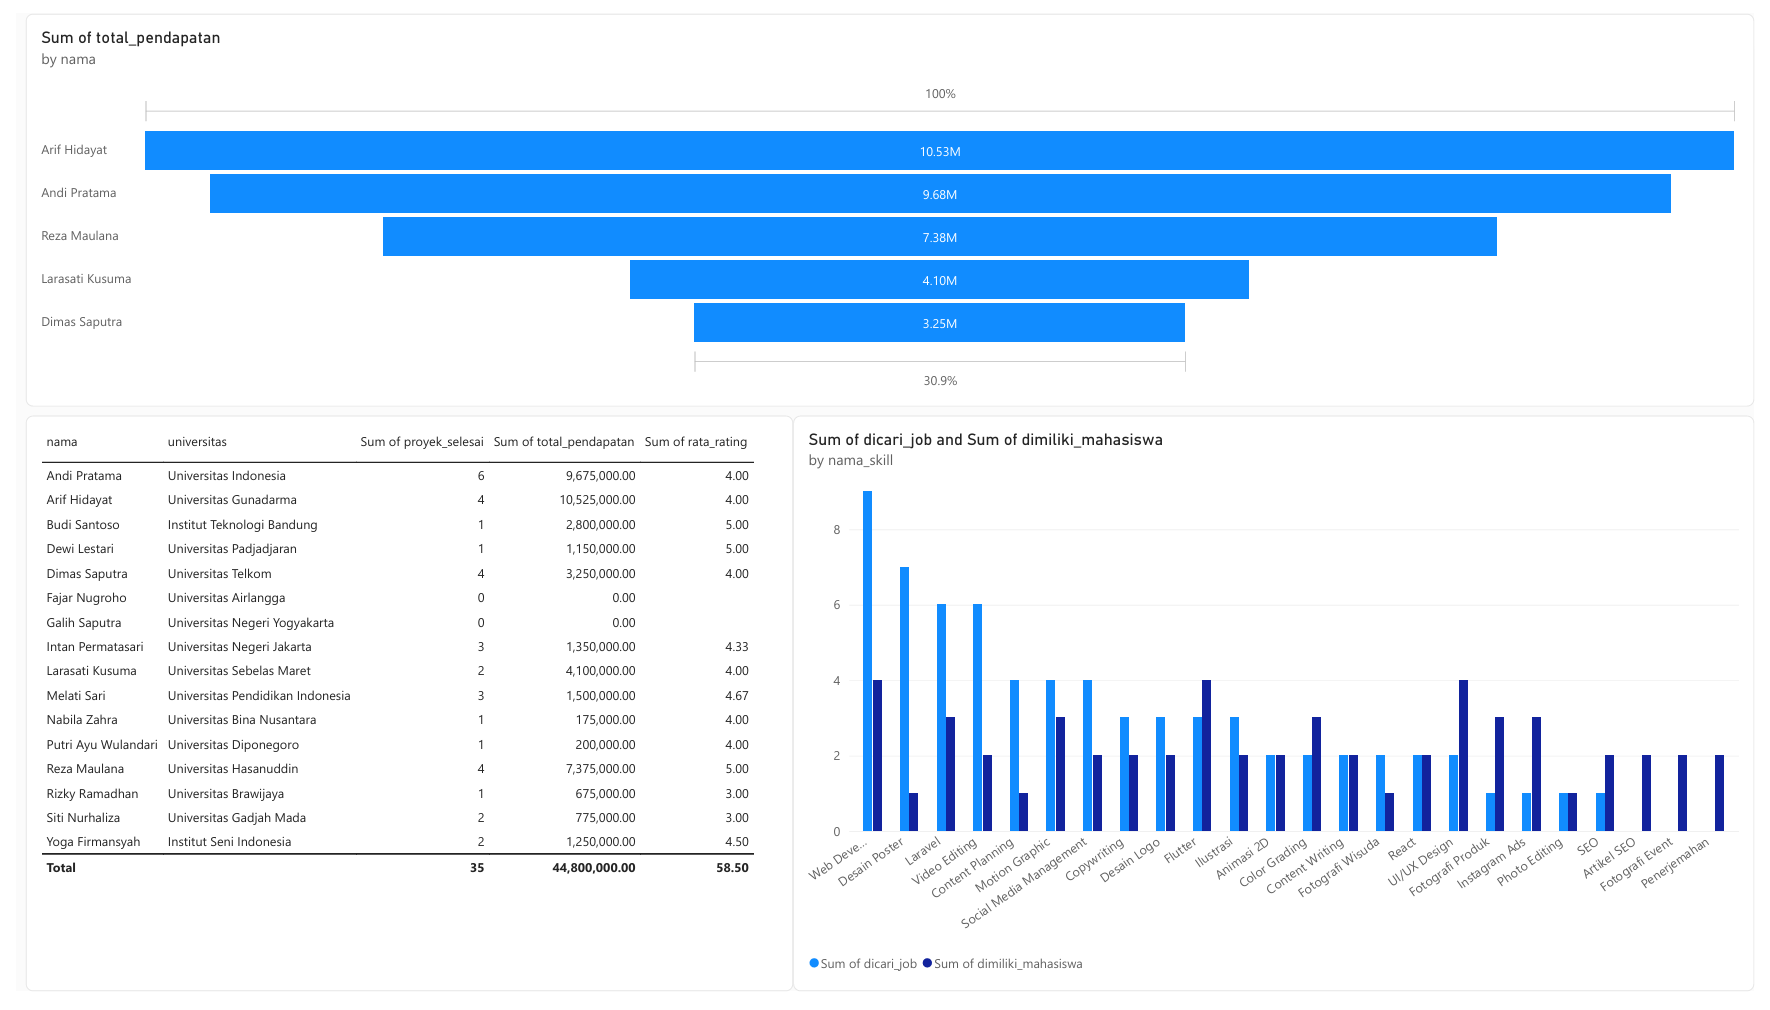

The dashboard page shown, as its layout file describes it:
{"tool":"powerbi","page":{"name":"Page 2","canvas":[1920,1080],"ordinal":1},"visuals":[{"type":"funnel","fields":{"Category":["skillconnect v_top_freelancer.nama"],"Y":["Sum(skillconnect v_top_freelancer.total_pendapatan)"]},"box":[9.7,0,1910.3,433.9],"z":0},{"type":"tableEx","fields":{"Values":["skillconnect v_top_freelancer.nama","skillconnect v_top_freelancer.universitas","Sum(skillconnect v_top_freelancer.proyek_selesai)","Sum(skillconnect v_top_freelancer.total_pendapatan)","Sum(skillconnect v_top_freelancer.rata_rating)"]},"box":[9.7,443.6,848.3,636.2],"z":1},{"type":"lineClusteredColumnComboChart","fields":{"Category":["skillconnect v_skill_populer.nama_skill"],"Y":["Sum(skillconnect v_skill_populer.dicari_job)","Sum(skillconnect v_skill_populer.dimiliki_mahasiswa)"]},"box":[858,444,1062,636],"z":2}]}

Visuals, with their boxes in screenshot pixels (x1, y1, x2, y2), scaled from the page's 1920x1080 canvas onto the 1770x1010 screenshot:
funnel - skillconnect v_top_freelancer.nama x Sum(skillconnect v_top_freelancer.total_pendapatan): [x1=9, y1=0, x2=1769, y2=406]
tableEx - skillconnect v_top_freelancer.nama x skillconnect v_top_freelancer.universitas: [x1=9, y1=415, x2=791, y2=1009]
lineClusteredColumnComboChart - skillconnect v_skill_populer.nama_skill x Sum(skillconnect v_skill_populer.dicari_job): [x1=791, y1=415, x2=1769, y2=1009]
